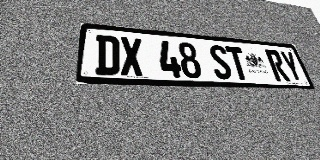4: (157, 40, 182, 78)
8: (177, 42, 203, 78)
D: (95, 35, 120, 76)
R: (264, 49, 291, 81)
S: (208, 44, 234, 80)
T: (225, 46, 251, 80)
X: (120, 37, 144, 76)
Y: (279, 51, 305, 82)
